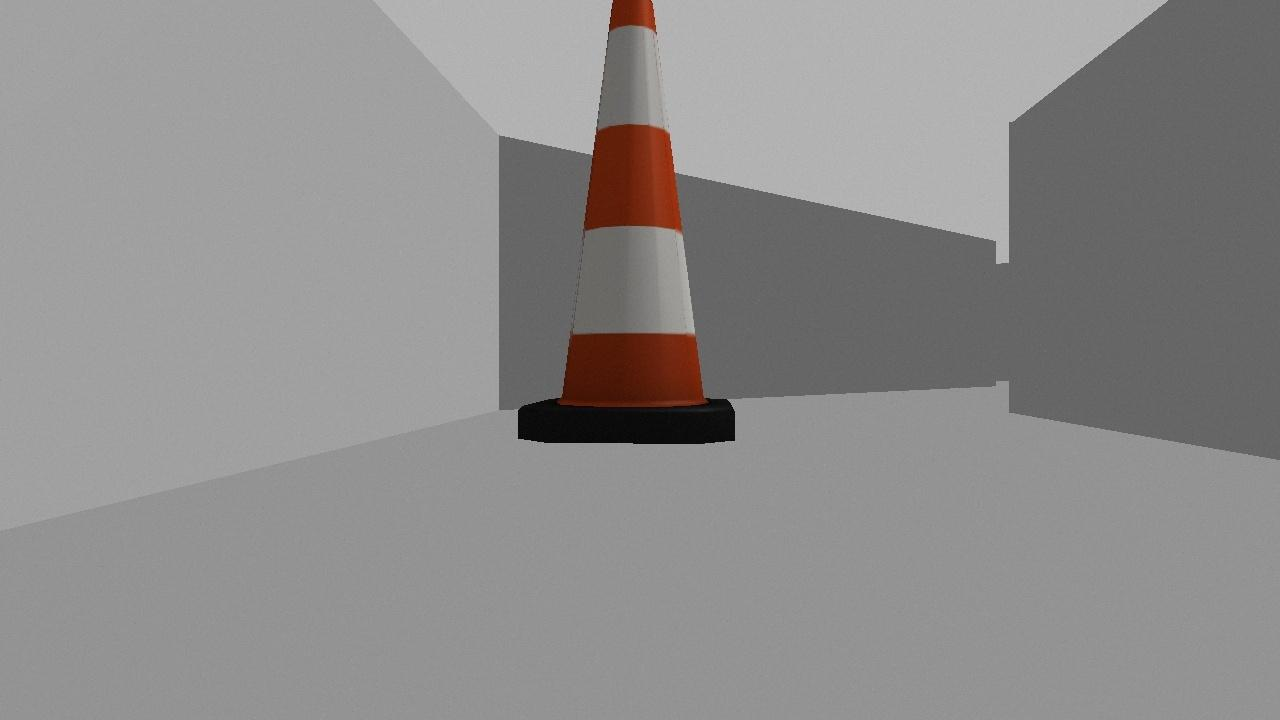cone_barrel: (498, 0, 765, 455)
